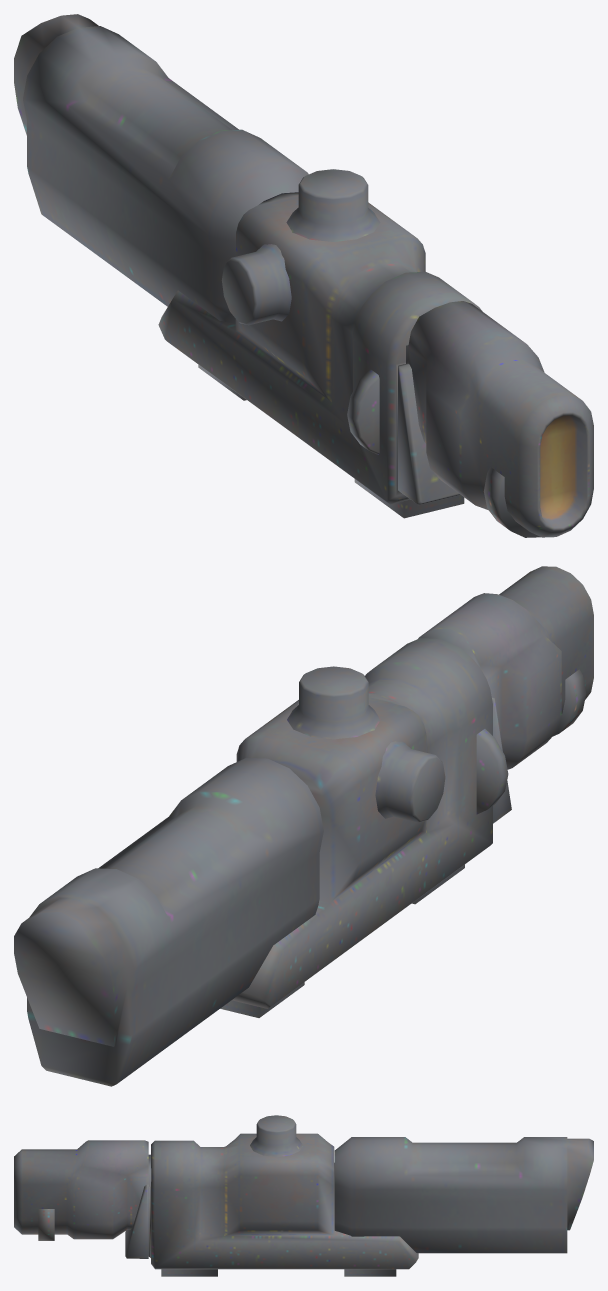
File: sight1.obj
The picture shows the model from 3 angles, top to bottom: view 1: azimuth 30°, elevation 25°; view 2: azimuth 150°, elevation 25°; view 3: azimuth 270°, elevation 25°; orthographic projection. The views are drawn at different scales.
Visible parts, largest first — view 1: sight1; view 2: sight1; view 3: sight1.
Boxes of the visible parts, x1,y1,x2,y2 form: sight1: (14,14,593,537); sight1: (14,566,593,1086); sight1: (14,1115,593,1276).
Size of the model in its own units: 7.03 by 10.91 by 39.49.
